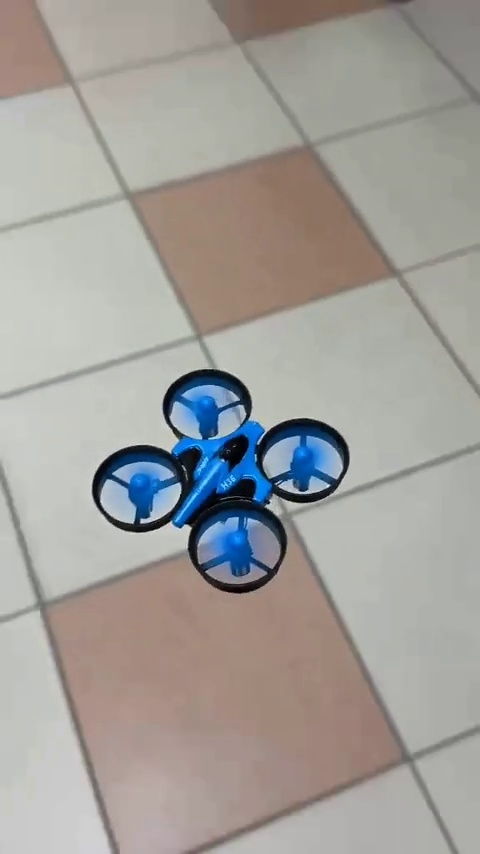drone: (95, 370, 349, 578)
